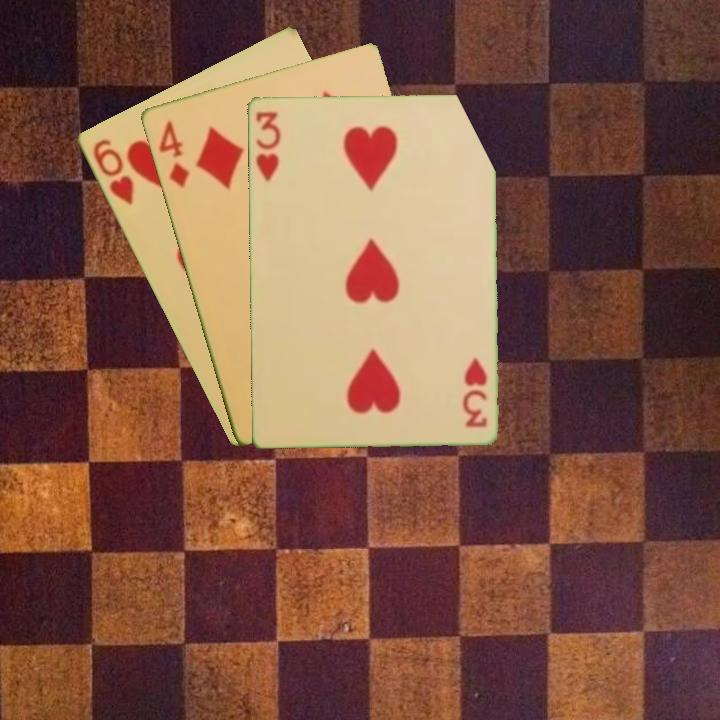3h: (251, 107, 282, 184), (460, 353, 490, 430)
4d: (154, 116, 192, 190)
6h: (88, 135, 136, 208)
